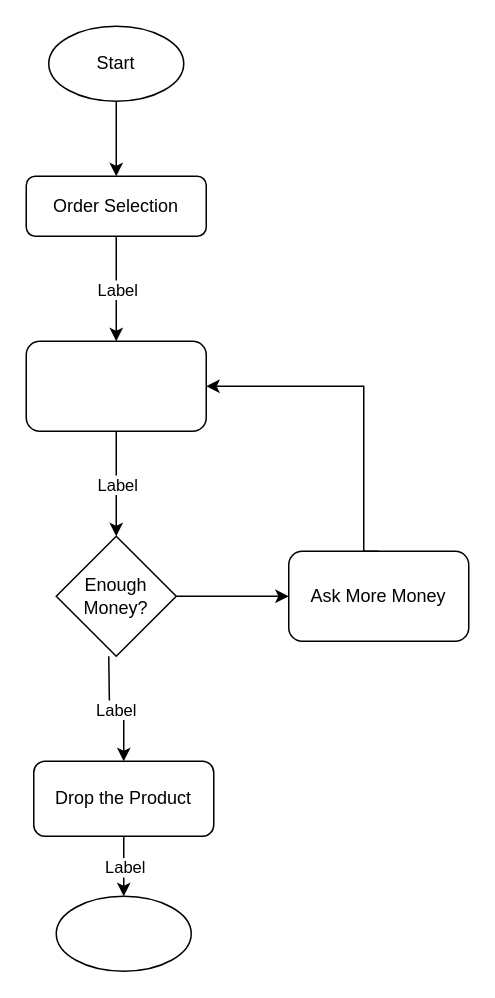
Image size: 495x998. Some labels were removed from this diagram. Here are the shapes that lost their labels. From the top down, the centre of each, then its label:
the point at 115,385: Count the Money
the point at 123,933: End
